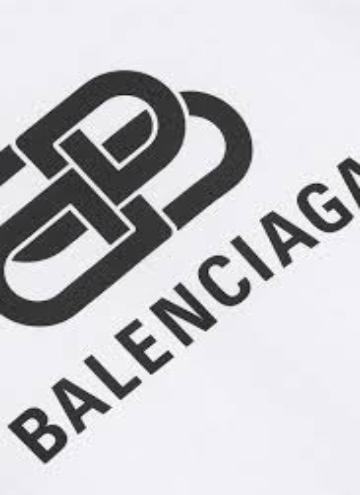BALENCIAGA: (1, 151, 358, 471)
